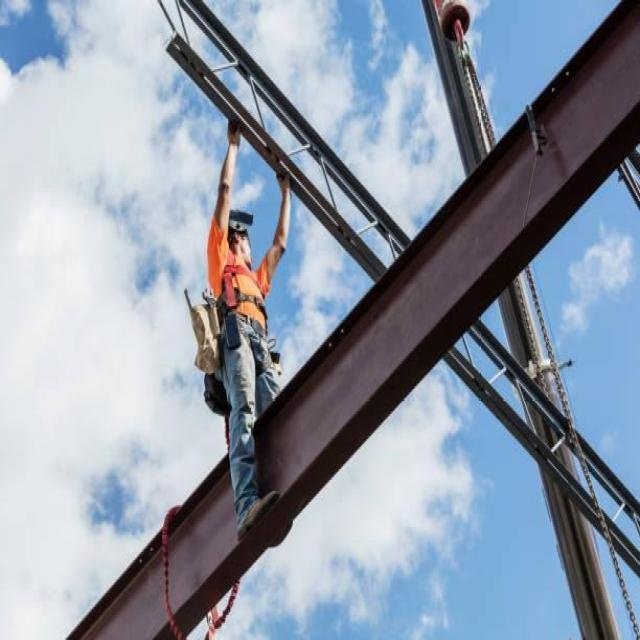Arnes_seguridad: (216, 244, 277, 375)
